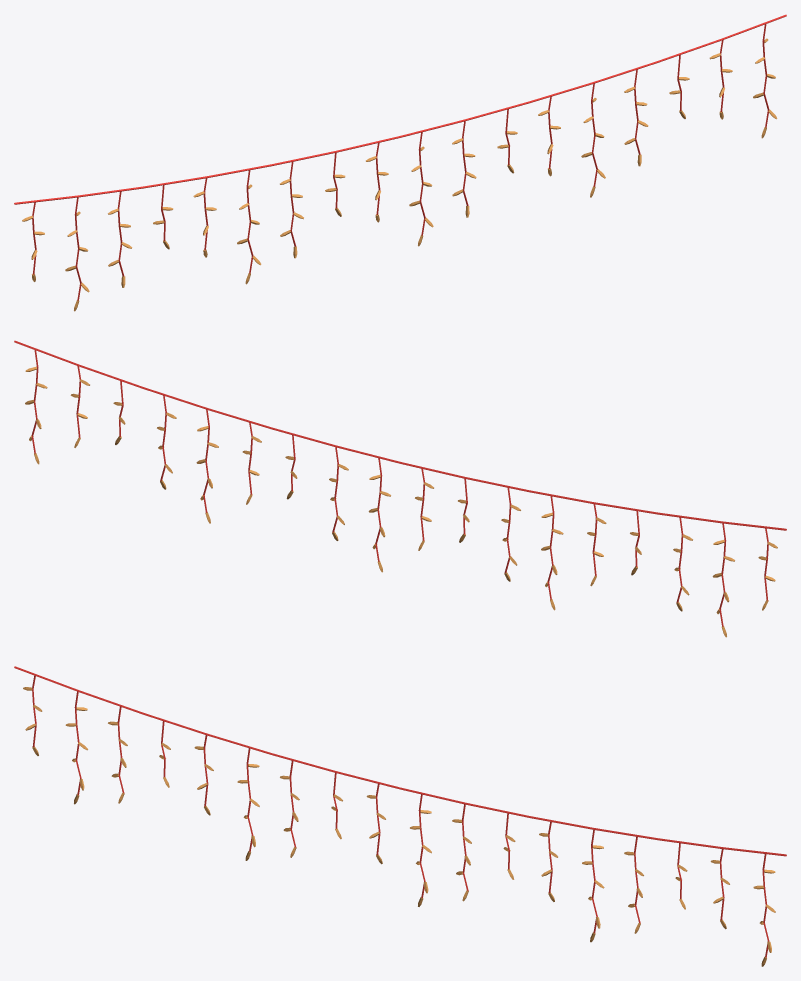
The model's file is SM_Light_String_White_5m_Christmas.fbx.
3 renders of one model, top to bottom at view 1: azimuth 30°, elevation 25°; view 2: azimuth 150°, elevation 25°; view 3: azimuth 330°, elevation 25°, orthographic.
Parts seen in each view (by area): view 1: light-string-white-5m-christmas; view 2: light-string-white-5m-christmas; view 3: light-string-white-5m-christmas.
Boxes of the visible parts, x1,y1,x2,y2 form: light-string-white-5m-christmas: (14, 14, 786, 311); light-string-white-5m-christmas: (14, 340, 786, 637); light-string-white-5m-christmas: (14, 666, 786, 966).
Size of the model in its own units: 5 by 0.8811 by 0.0886.
